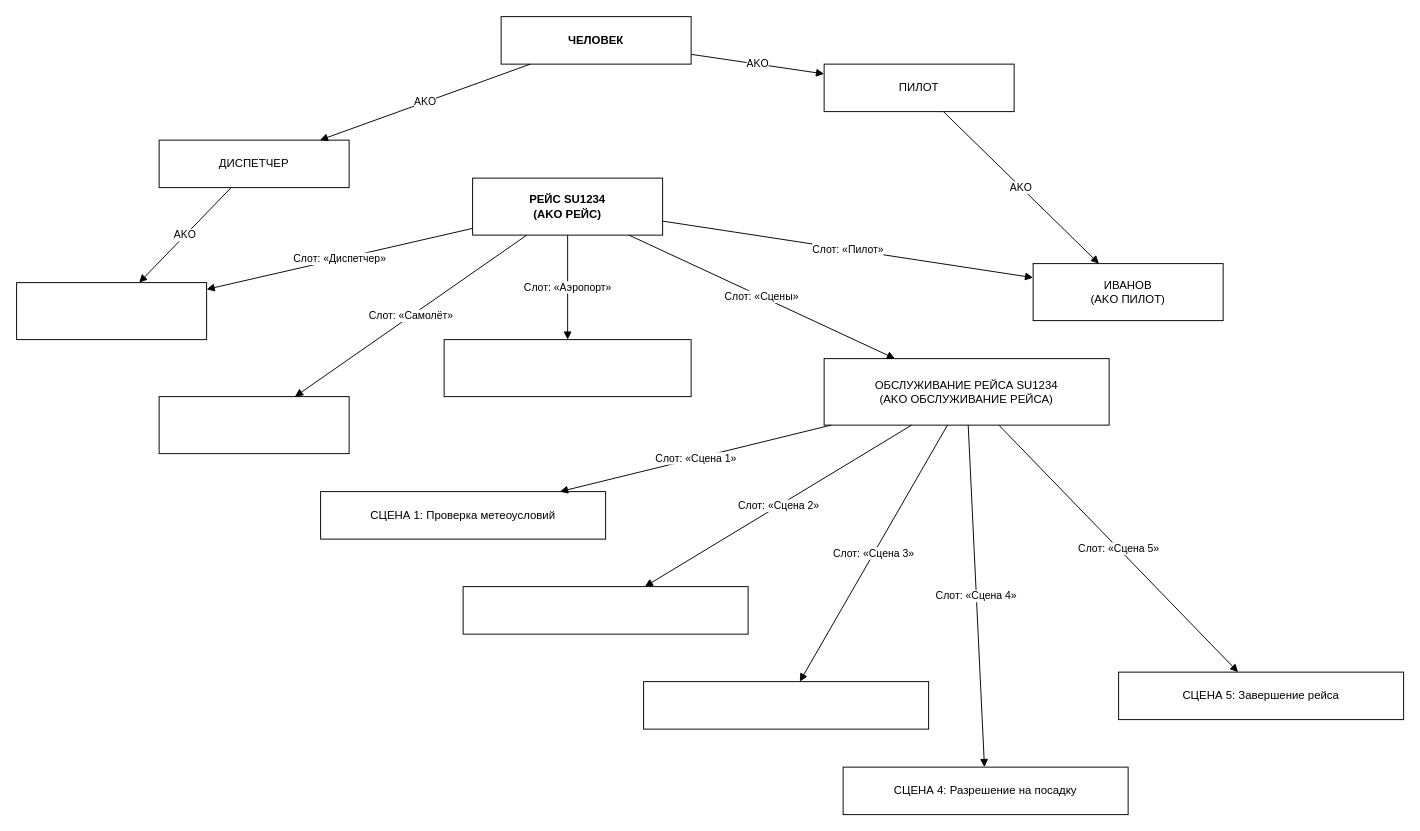
Image size: 1420x831. Some labels were removed from this diagram. The centre of each missing label's shape, as x and y in pixels:
"АЭРОПОРТ «ШЕРЕМЕТЬЕВО»" belongs at [567,368].
"ПЕТРОВ (AKО ДИСПЕТЧЕР)" belongs at [111,311].
"САМОЛЁТ Airbus A320 RA-73145" belongs at [253,425].
"СЦЕНА 2: Разрешение на взлёт" belongs at [605,610].
"СЦЕНА 3: Контроль в полёте" belongs at [786,705].
